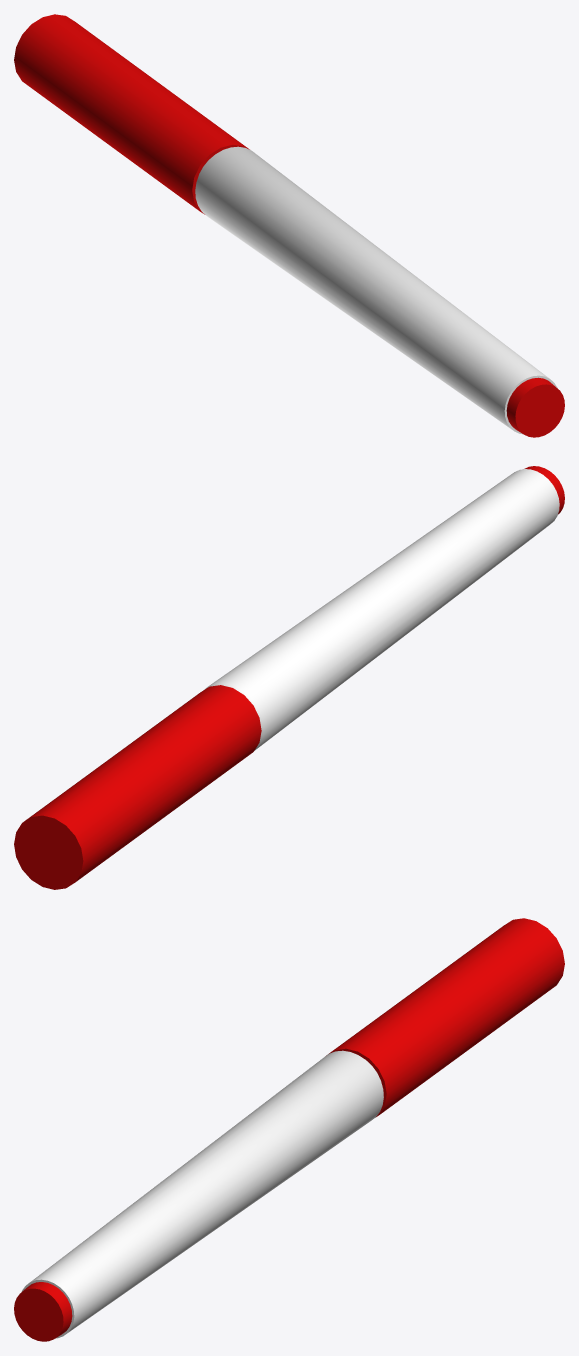
Rendered from Marker.FBX.
The picture shows the model from 3 angles, top to bottom: view 1: azimuth 30°, elevation 25°; view 2: azimuth 150°, elevation 25°; view 3: azimuth 330°, elevation 25°; orthographic projection.
Visible parts, largest first — view 1: Marker; view 2: Marker; view 3: Marker.
Part boxes in pixels (x1=…): Marker: x1=14, y1=14, x2=564, y2=437; Marker: x1=14, y1=466, x2=564, y2=889; Marker: x1=14, y1=918, x2=564, y2=1341.
Size of the model in its own units: 11.69 by 143 by 11.6.
1 material, 1 textured.
